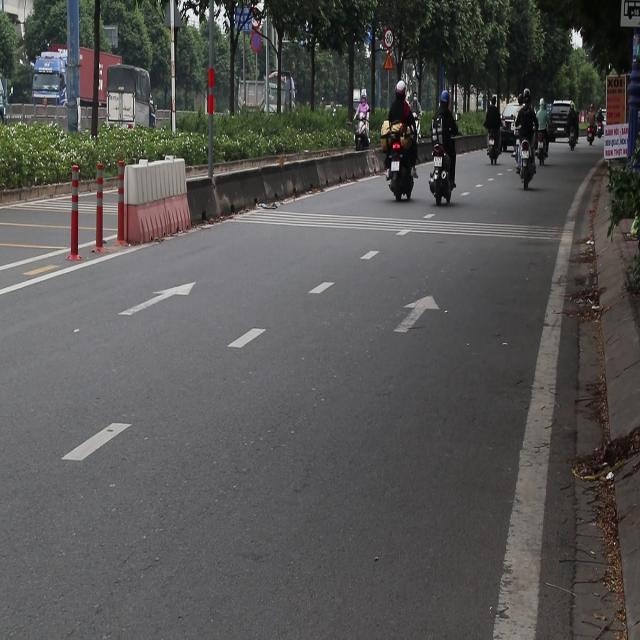car: (546, 102, 577, 144), (502, 101, 524, 149)
motorbike: (427, 150, 451, 207), (386, 146, 412, 197), (478, 120, 504, 164), (355, 107, 372, 151), (526, 144, 534, 197)
truck: (31, 47, 143, 128), (96, 66, 148, 150), (231, 67, 292, 137)
